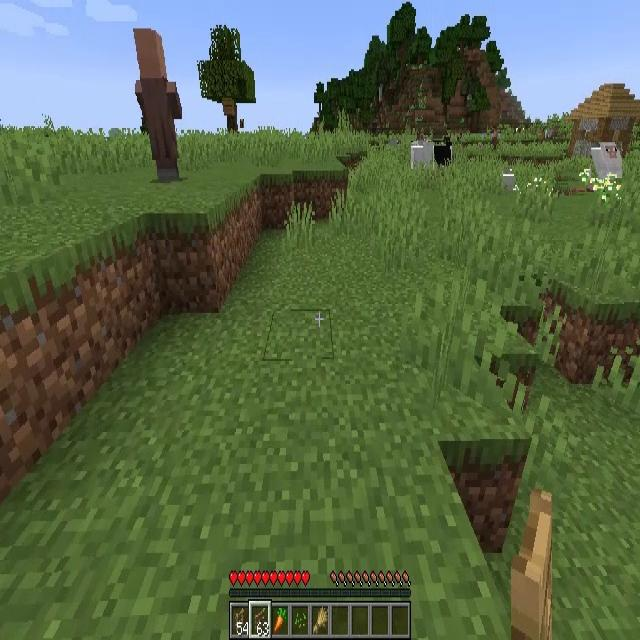flower: (593, 172, 618, 201), (579, 167, 590, 186)
people: (133, 29, 183, 181)
sheep: (591, 141, 622, 178), (412, 141, 434, 169), (434, 142, 452, 166), (501, 175, 515, 192)
